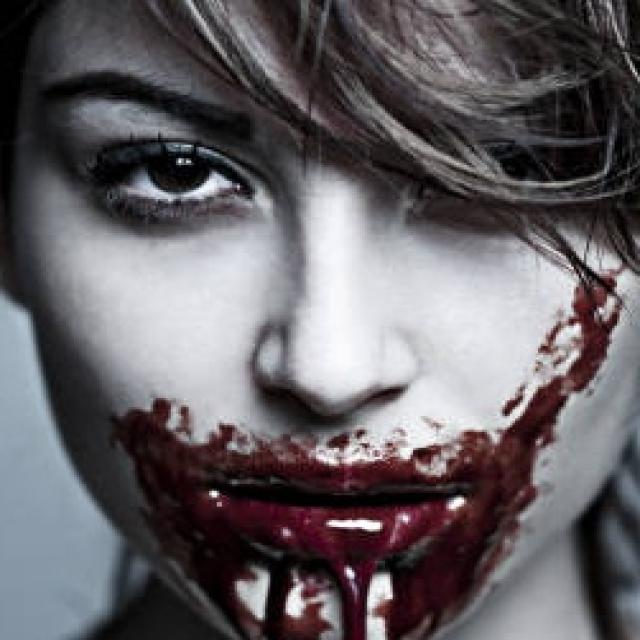Anxiety: (3, 5, 640, 638)
